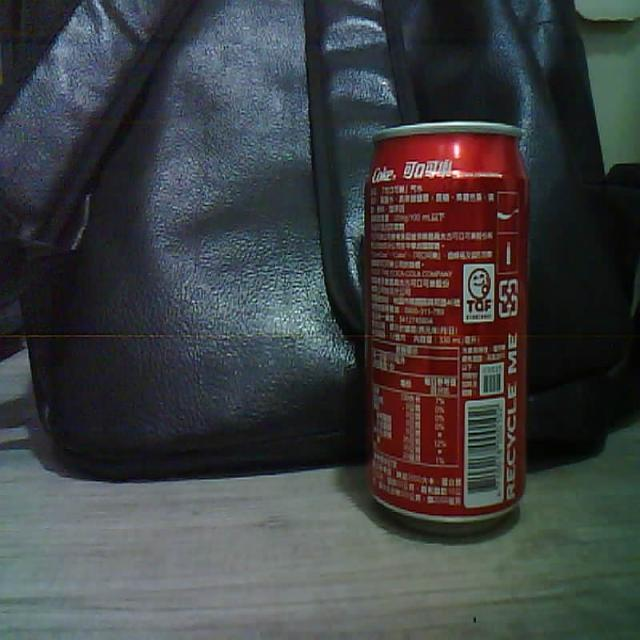can: (363, 122, 527, 528)
